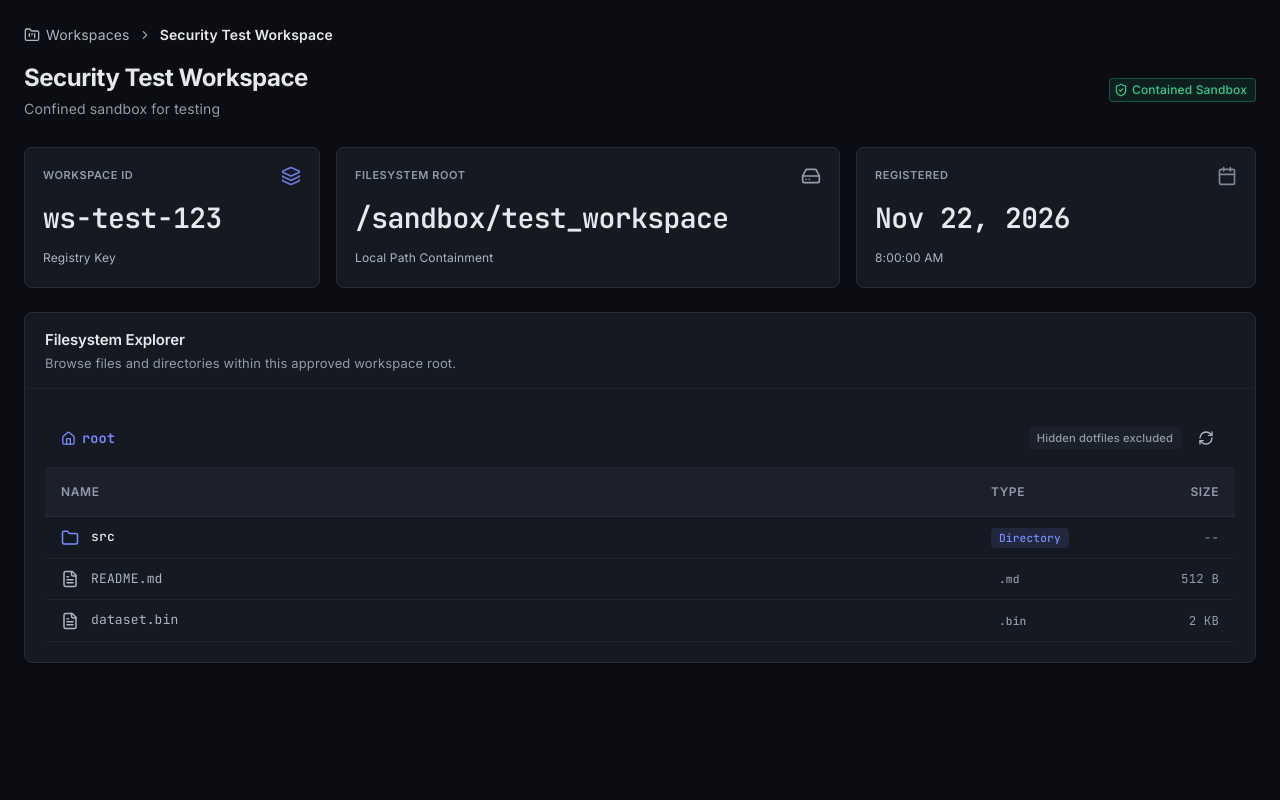
it: WorkspaceDetailPage & FileBrowser Integration (M9.7.1) › opens file preview modal and displays text content
Click README.md to trigger preview modal
Step 1. Click the text "README.md" → (127, 579), box [91,570,163,588]
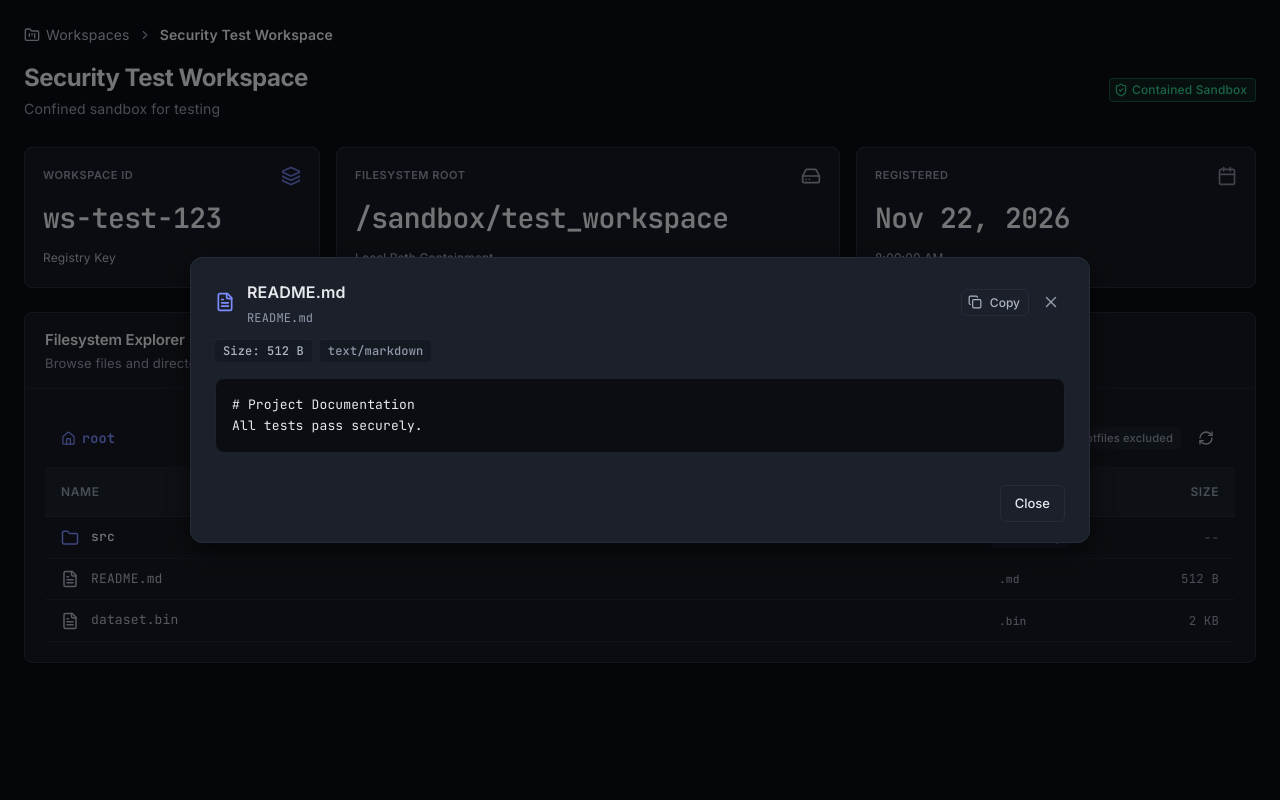
Expected: the text "# Project Documentation All tests pass securely." is shown, [215,378,1065,453]
Expected: the text "text/markdown" is shown, [320,342,432,360]
Expected: the button "Copy" is shown, [961,289,1029,316]
